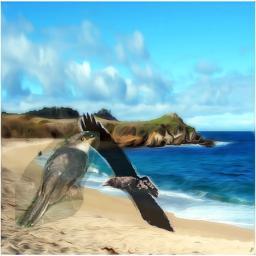Crow: (78, 110, 176, 234)
Cuckoo: (15, 131, 100, 231)
